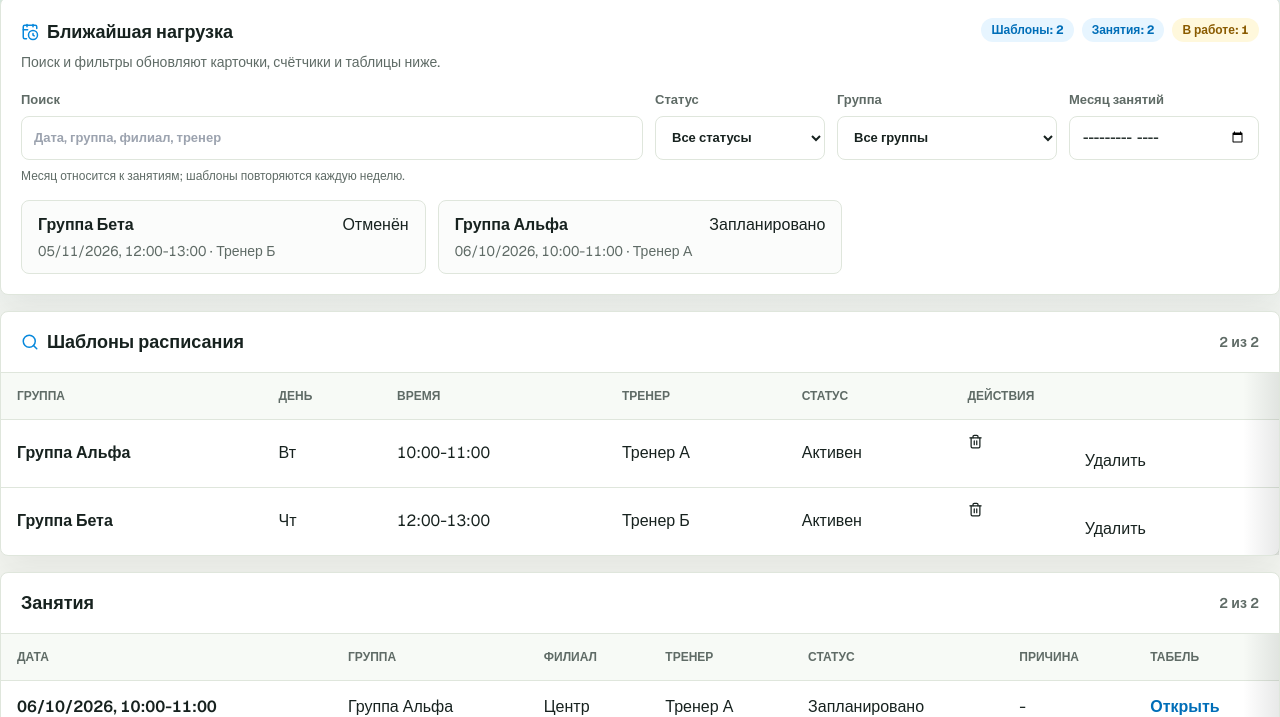
Test: schedule filters › applies the group and status to cards, counters and rows
The image size is (1280, 717).
Select "Группа Альфа" in the dropdown labelled "Группа". click: (947, 138)
box: left=837, top=116, right=1057, bottom=160
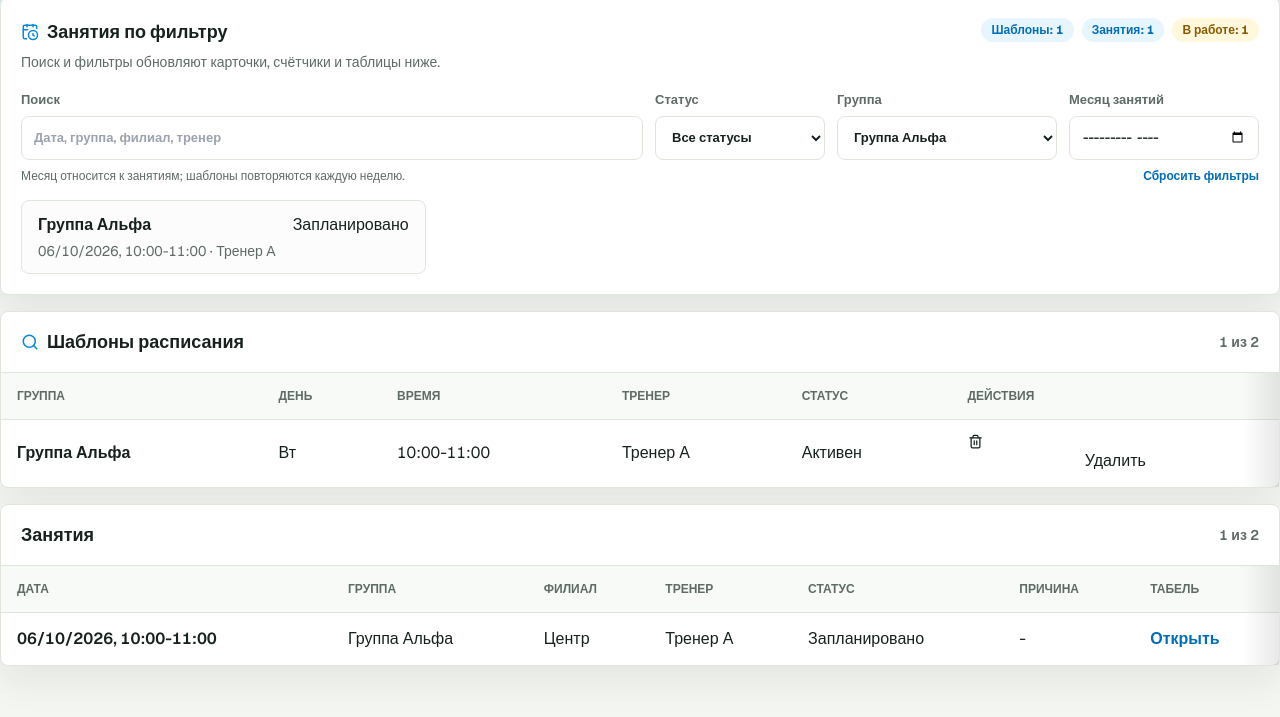
Select "Запланировано · занятия" in the dropdown labelled "Статус". click: (740, 138)
box: left=655, top=116, right=825, bottom=160
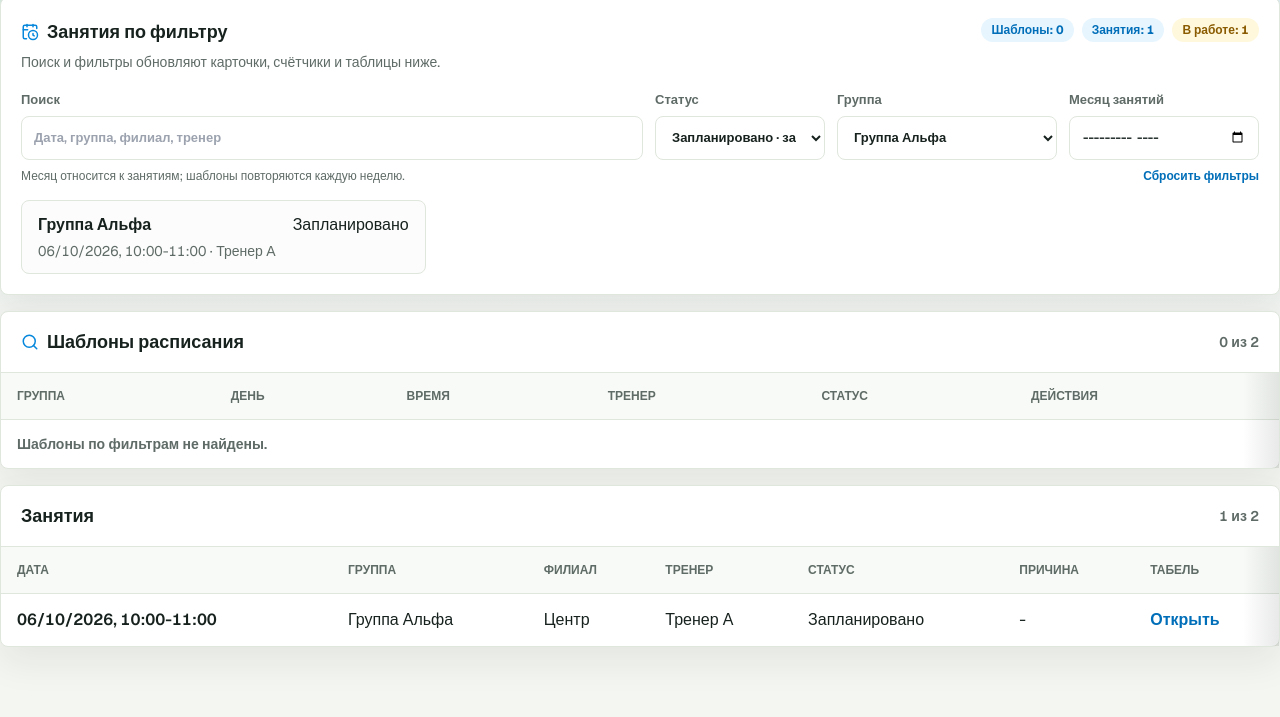
Check: the text "В работе: 1" is shown, box left=1172, top=18, right=1259, bottom=42
Check: the text "Занятия: 1" is shown, box left=1082, top=18, right=1164, bottom=42
Check: the heading "Занятия по фильтру" is shown, box left=21, top=20, right=228, bottom=43
Click the button "Сбросить фильтры". click: click(1201, 176)
box: left=1143, top=168, right=1259, bottom=184
(page scrolled)
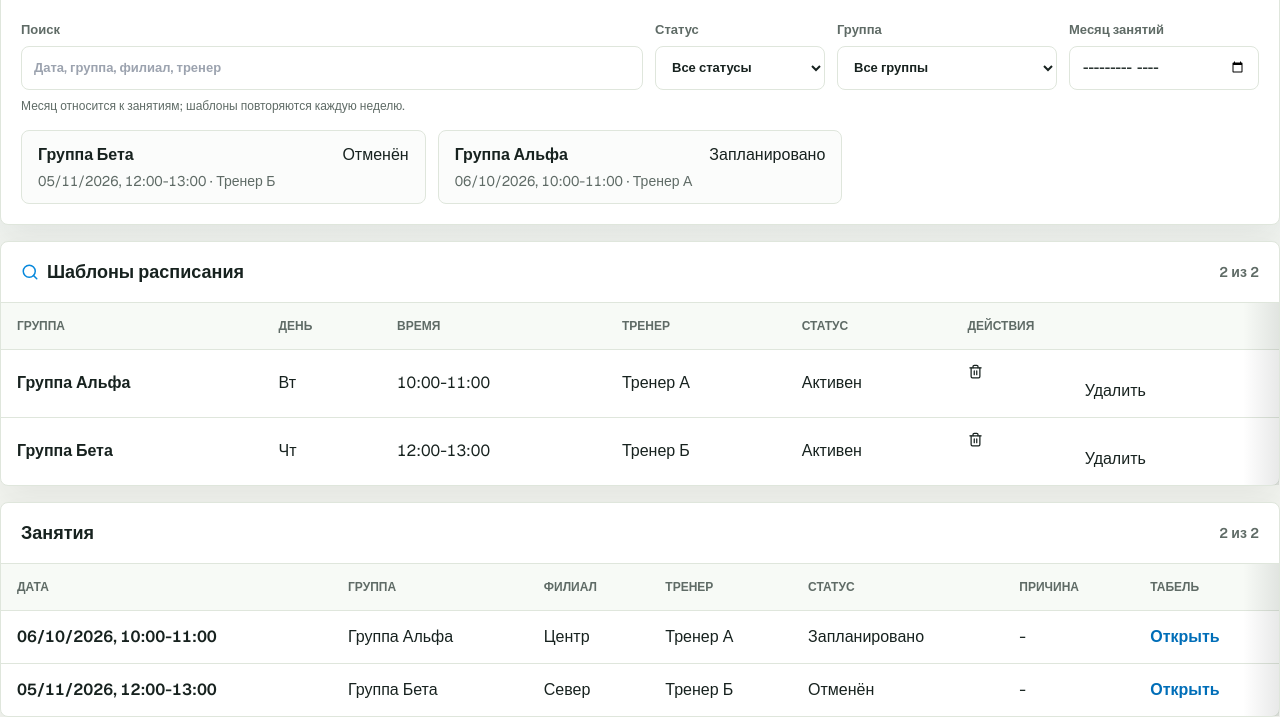
Check: the row "Группа Бета" is shown, box left=1, top=663, right=1279, bottom=716
